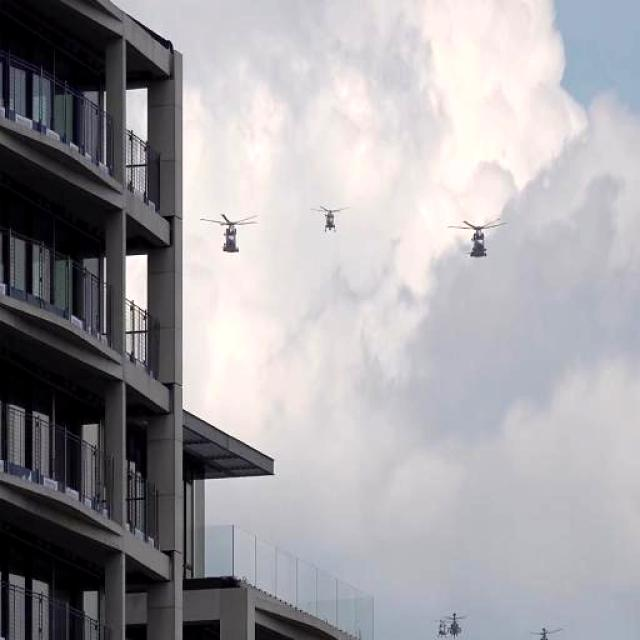drone: (199, 210, 259, 256), (446, 218, 509, 260), (310, 202, 350, 235), (444, 611, 469, 640), (431, 618, 454, 639), (528, 628, 564, 640)
